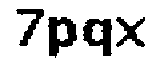7: (12, 6, 45, 49)
p: (46, 14, 80, 60)
q: (81, 16, 115, 60)
x: (115, 13, 148, 51)
